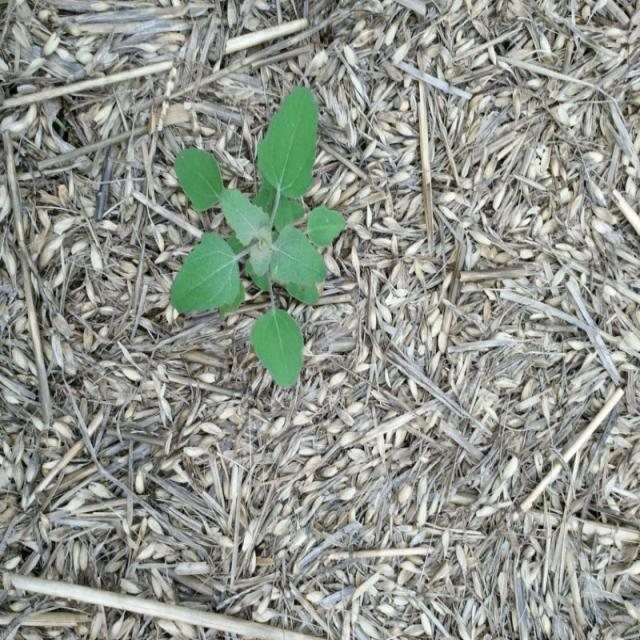goosefoots: (138, 87, 372, 383)
